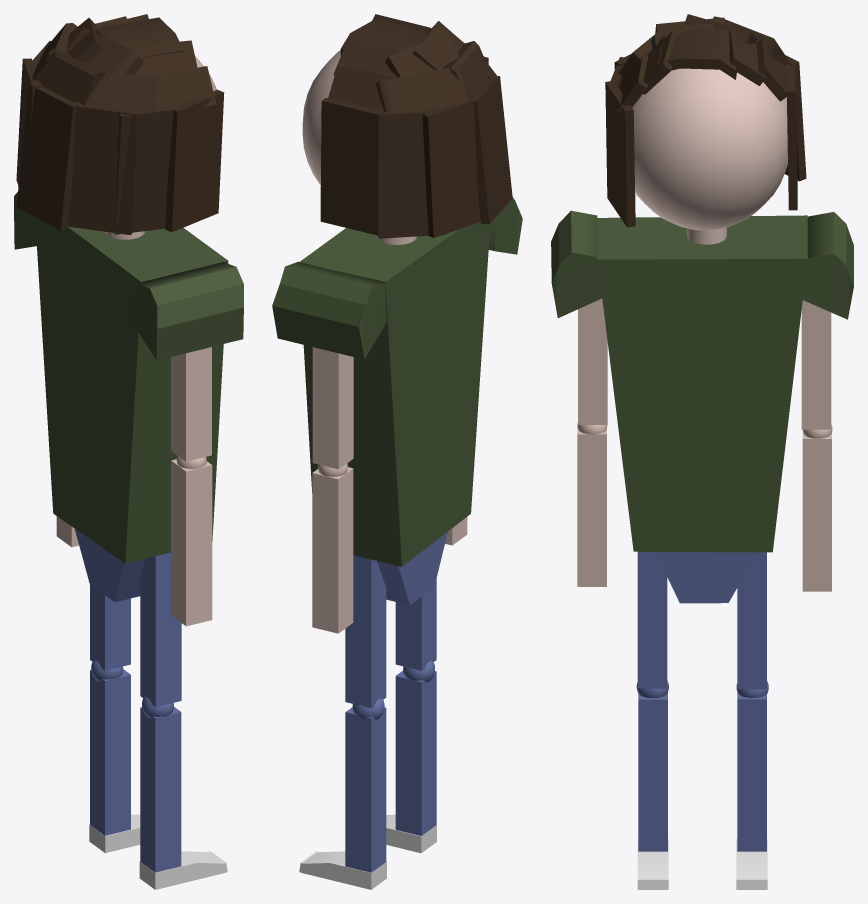
File: maman.fbx
The picture shows the model from 3 angles, left to right: view 1: azimuth 30°, elevation 25°; view 2: azimuth 150°, elevation 25°; view 3: azimuth 270°, elevation 25°; orthographic projection.
Visible parts, largest first — view 1: pCube1, pCube13, pCube19, pCube18, pCube7, pCube12, pCube21, pCube11, pCube9, pCube20, pCube8, pCube10 (+13 smaller); view 2: pCube1, pCube2, pCube15, pCube17, pCube6, pCube12, pCube11, pCube16, pCube10, pCube5, pCube18, pCube23 (+12 smaller); view 3: pCube1, pSphere1, pCube11, pCube12, pCube6, pCube7, pCube2, pCube13, pCube9, pCube4, pCube5, pCube10 (+12 smaller).
Boxes of the visible parts, x1=… form: pCube1: x1=35, y1=217, x2=228, y2=563; pCube13: x1=132, y1=262, x2=243, y2=360; pCube19: x1=68, y1=102, x2=138, y2=235; pCube18: x1=16, y1=84, x2=75, y2=230; pCube7: x1=171, y1=459, x2=212, y2=626; pCube12: x1=140, y1=707, x2=181, y2=872; pCube21: x1=165, y1=89, x2=224, y2=232; pCube11: x1=90, y1=669, x2=130, y2=835; pCube9: x1=140, y1=552, x2=181, y2=707; pCube20: x1=114, y1=104, x2=185, y2=234; pCube8: x1=171, y1=347, x2=211, y2=461; pCube10: x1=90, y1=585, x2=130, y2=670; pCube1: x1=300, y1=221, x2=490, y2=566; pCube2: x1=272, y1=261, x2=386, y2=359; pCube15: x1=320, y1=98, x2=382, y2=235; pCube17: x1=422, y1=95, x2=483, y2=237; pCube6: x1=312, y1=467, x2=353, y2=633; pCube12: x1=395, y1=671, x2=436, y2=835; pCube11: x1=345, y1=707, x2=386, y2=872; pCube16: x1=377, y1=108, x2=446, y2=238; pCube10: x1=345, y1=555, x2=386, y2=708; pCube5: x1=312, y1=347, x2=353, y2=469; pCube18: x1=474, y1=76, x2=512, y2=224; pCube23: x1=375, y1=65, x2=467, y2=117; pCube1: x1=597, y1=215, x2=807, y2=552; pSphere1: x1=632, y1=68, x2=787, y2=230; pCube11: x1=737, y1=692, x2=766, y2=851; pCube12: x1=638, y1=692, x2=667, y2=851; pCube6: x1=802, y1=430, x2=831, y2=591; pCube7: x1=577, y1=422, x2=606, y2=586; pCube2: x1=802, y1=212, x2=853, y2=319; pCube13: x1=551, y1=210, x2=601, y2=317; pCube9: x1=637, y1=552, x2=667, y2=688; pCube4: x1=655, y1=552, x2=756, y2=603; pCube5: x1=801, y1=300, x2=831, y2=429; pCube10: x1=737, y1=552, x2=766, y2=689.
Bounding box in the file's own units: 0.2141 × 0.9202 × 0.306.
